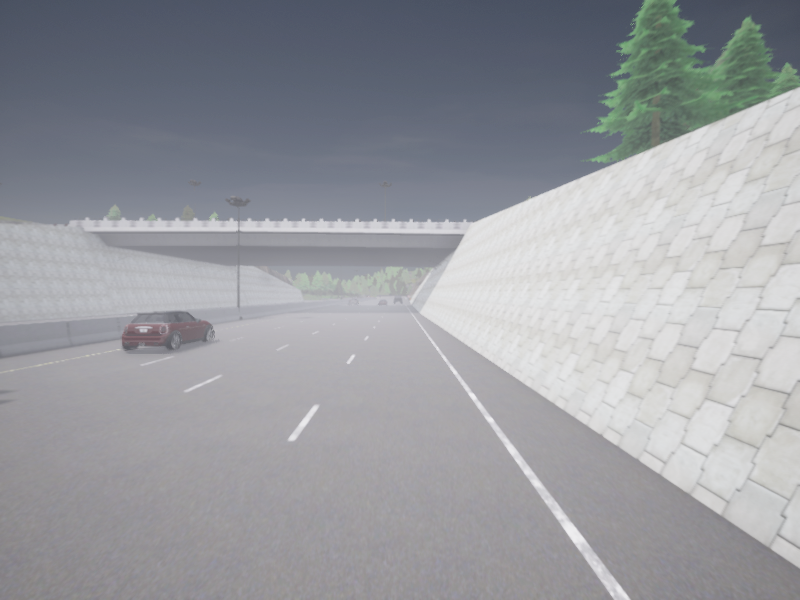vehicle: (121, 311, 212, 350), (393, 296, 402, 303), (349, 298, 358, 304), (379, 300, 387, 304)
